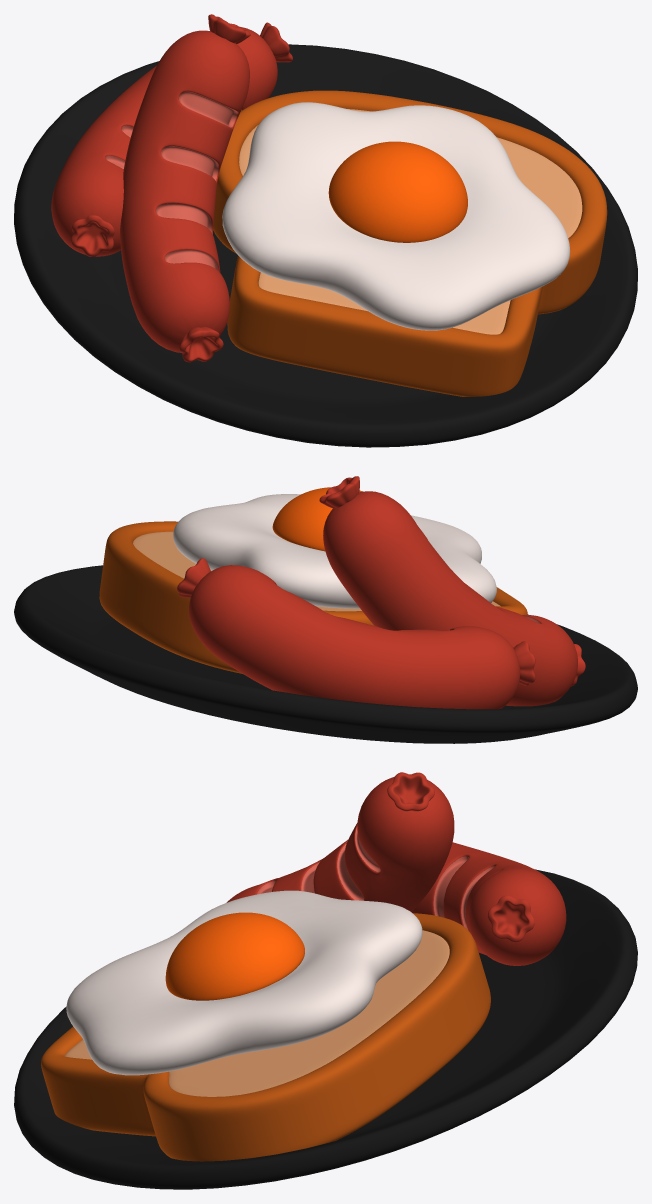
3 views of the same model, one above another, from view 1: azimuth 30°, elevation 25°; view 2: azimuth 150°, elevation 25°; view 3: azimuth 270°, elevation 25° (orthographic). The views are drawn at different scales.
Parts seen in each view (by area): view 1: Circle.169, Circle.173, Plane.082, Cube.084, Sphere.064, Cube.085, Plane.079, Circle.171, Circle.170; view 2: Circle.169, Cube.085, Cube.084, Circle.173, Plane.082, Sphere.064, Plane.079, Circle.171, Circle.170; view 3: Circle.169, Plane.082, Circle.173, Cube.084, Plane.079, Cube.085, Sphere.064, Circle.171, Circle.170.
Boxes of the visible parts, box(x1,y1,x2,y2) form: Circle.169: box(14, 44, 637, 447); Circle.173: box(222, 102, 570, 330); Plane.082: box(213, 90, 607, 396); Cube.084: box(119, 30, 249, 352); Sphere.064: box(328, 141, 467, 242); Cube.085: box(51, 26, 277, 256); Plane.079: box(239, 109, 582, 334); Circle.171: box(71, 22, 292, 256); Circle.170: box(179, 14, 250, 362); Circle.169: box(14, 565, 637, 743); Cube.085: box(189, 565, 520, 709); Cube.084: box(323, 491, 577, 706); Circle.173: box(173, 494, 496, 608); Plane.082: box(99, 521, 527, 673); Sphere.064: box(272, 487, 362, 551); Plane.079: box(133, 531, 500, 611); Circle.171: box(177, 558, 535, 685); Circle.170: box(319, 476, 585, 686); Circle.169: box(14, 869, 637, 1189); Plane.082: box(41, 913, 490, 1161); Circle.173: box(66, 890, 422, 1075); Cube.084: box(226, 777, 454, 911); Plane.079: box(64, 930, 449, 1096); Cube.085: box(375, 842, 566, 965); Sphere.064: box(165, 912, 304, 1000); Circle.171: box(487, 895, 534, 942); Circle.170: box(387, 772, 434, 811).
Bounding box in the file's own units: 3.29 × 1.76 × 3.18.
